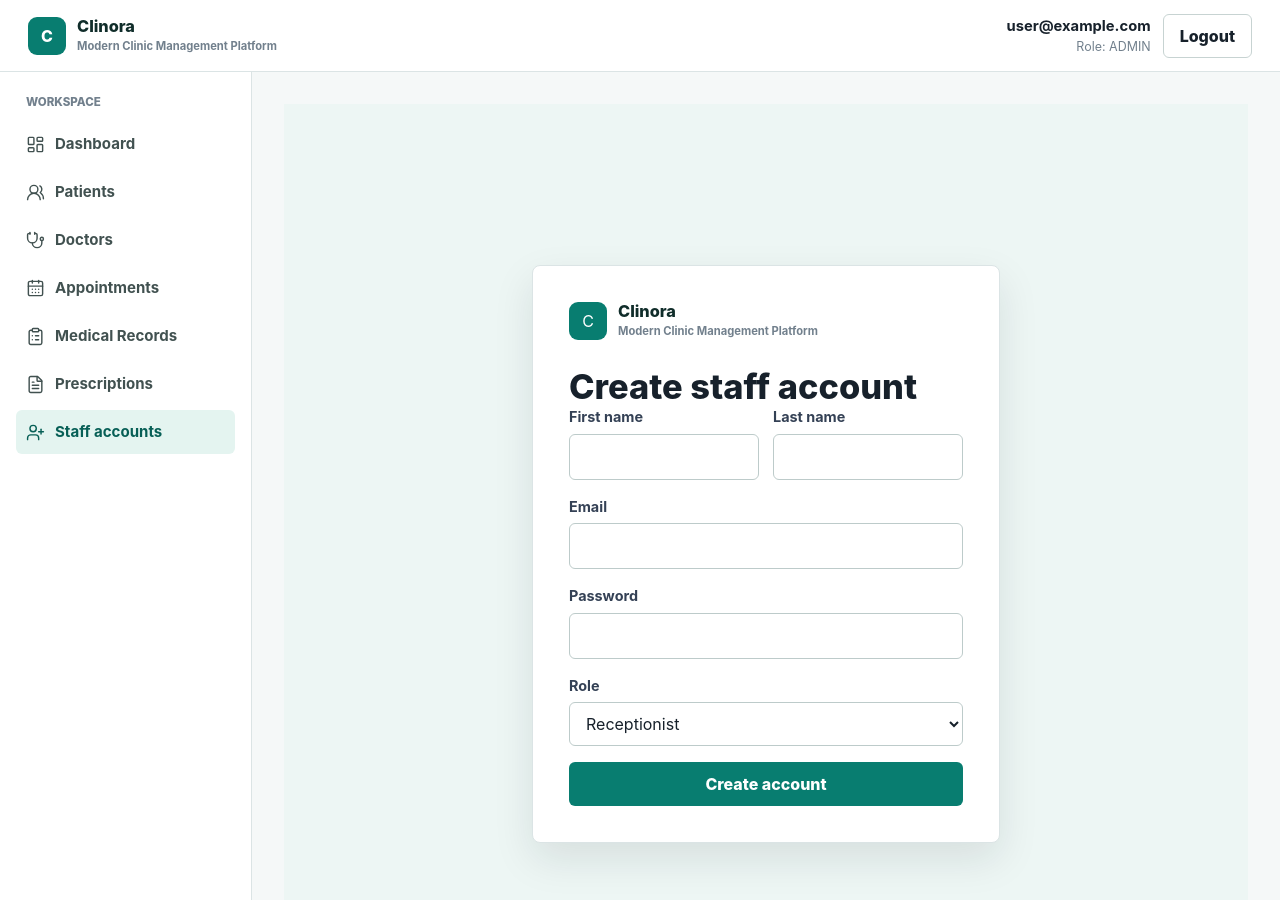
Test case: RegisterPage › submits registration and shows the created role
Type "Front" into the field labelled "First name" at (664,457), box [569,434,759,480]
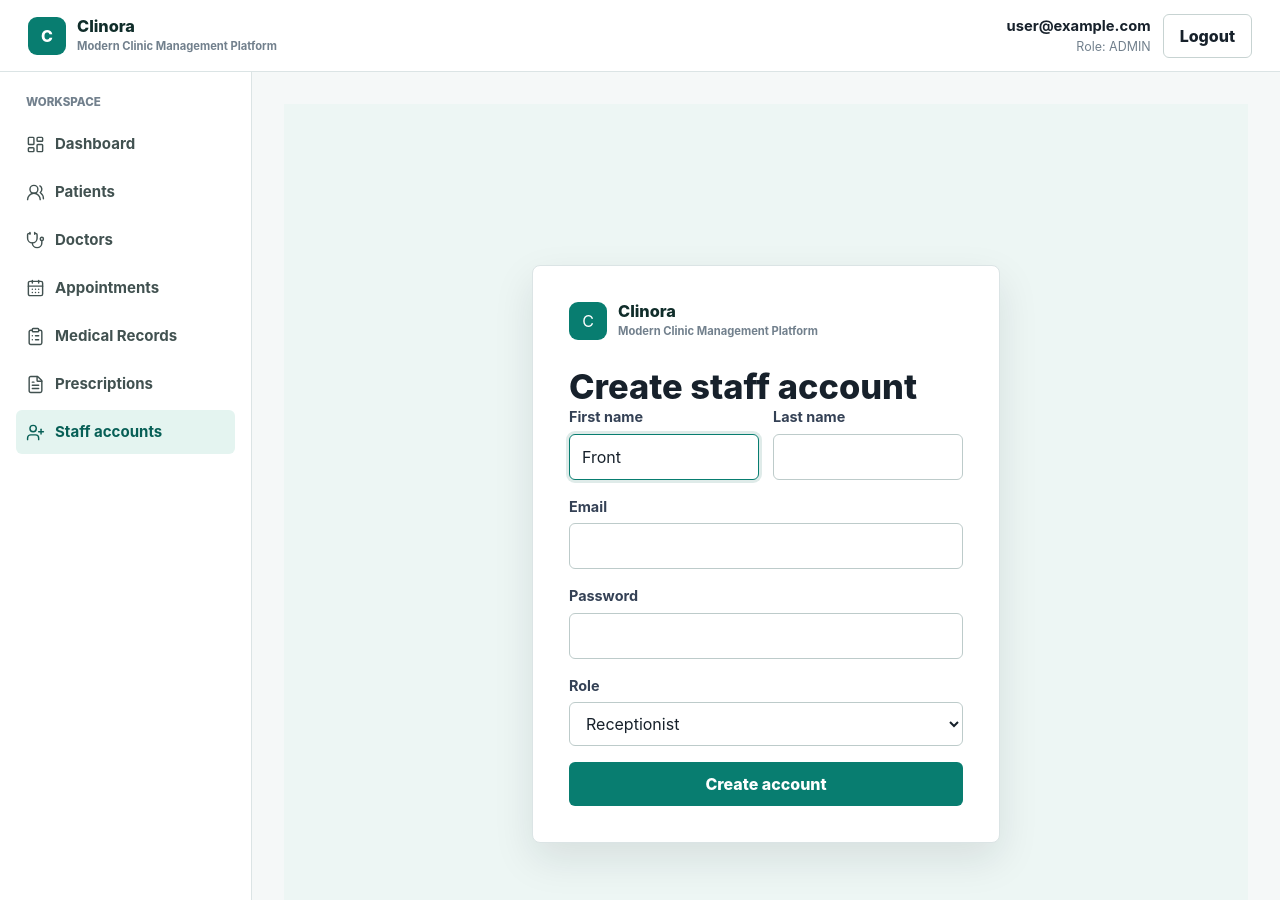
Type "Desk" into the field labelled "Last name" at (868,457), box [773,434,963,480]
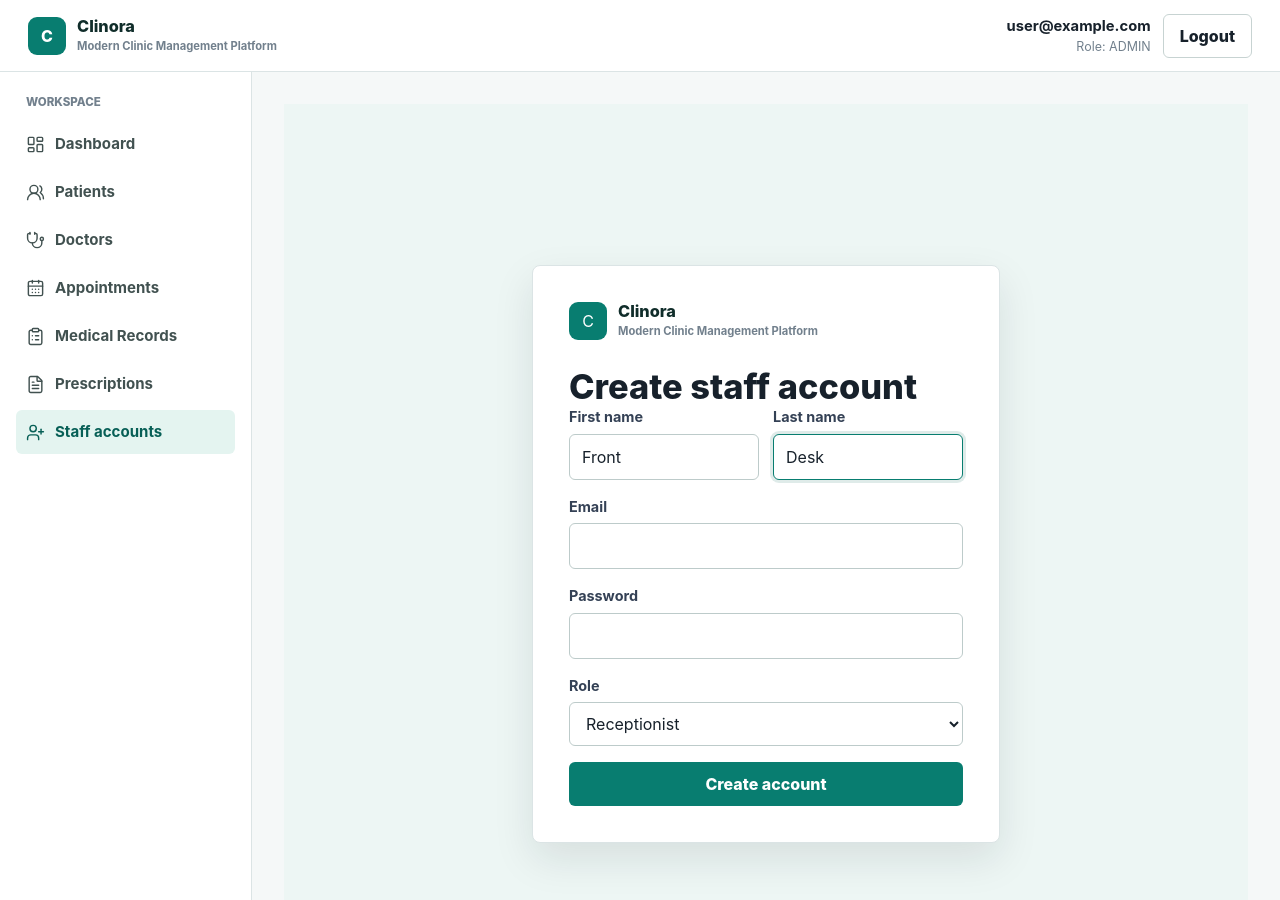
Type "frontdesk@example.com" into the field labelled "Email" at (766,546), box [569,523,963,569]
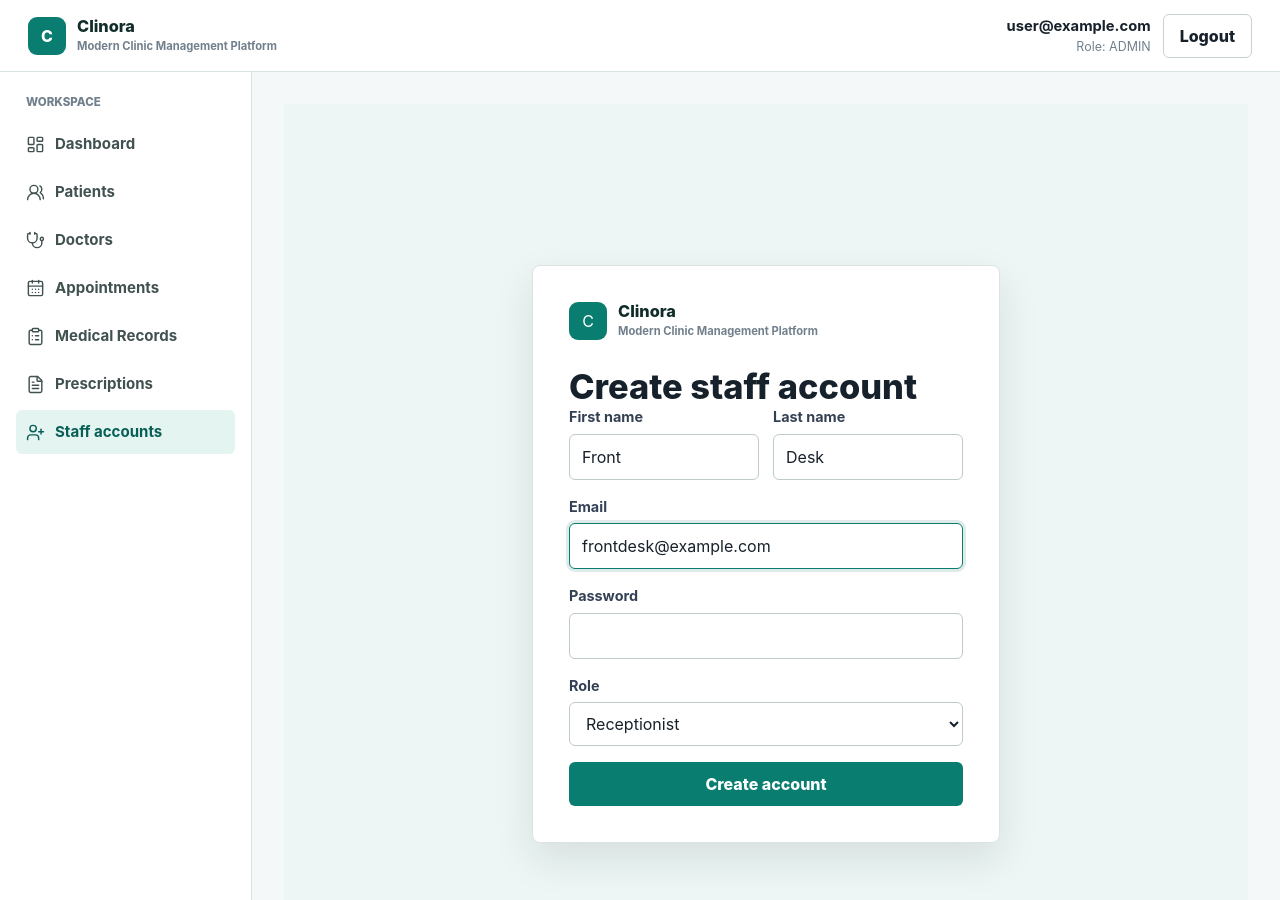
Type "StrongPass123" into the password field labelled "Password" at (766,636), box [569,613,963,659]
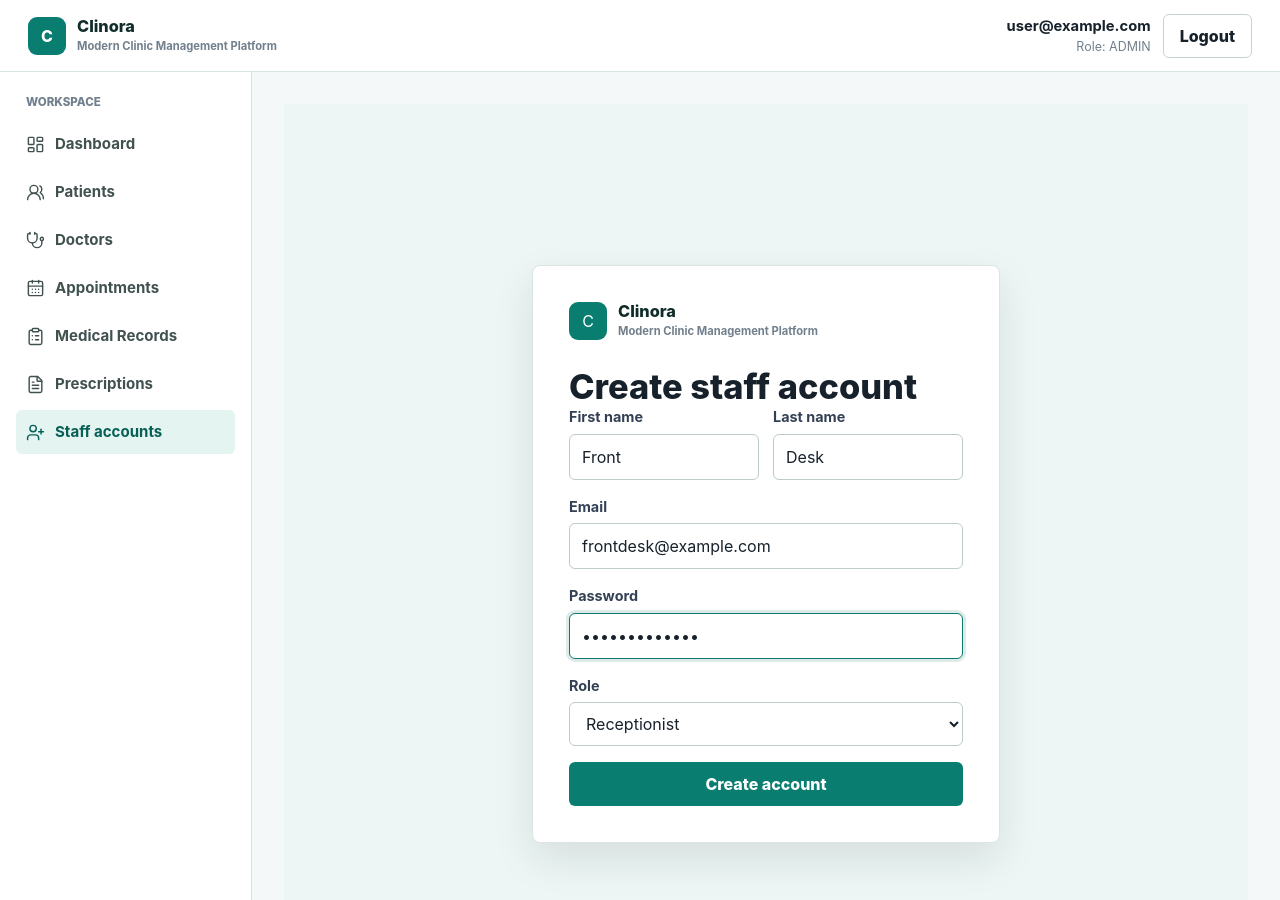
Click the button "Create account" at (766,784), box [569,762,963,806]
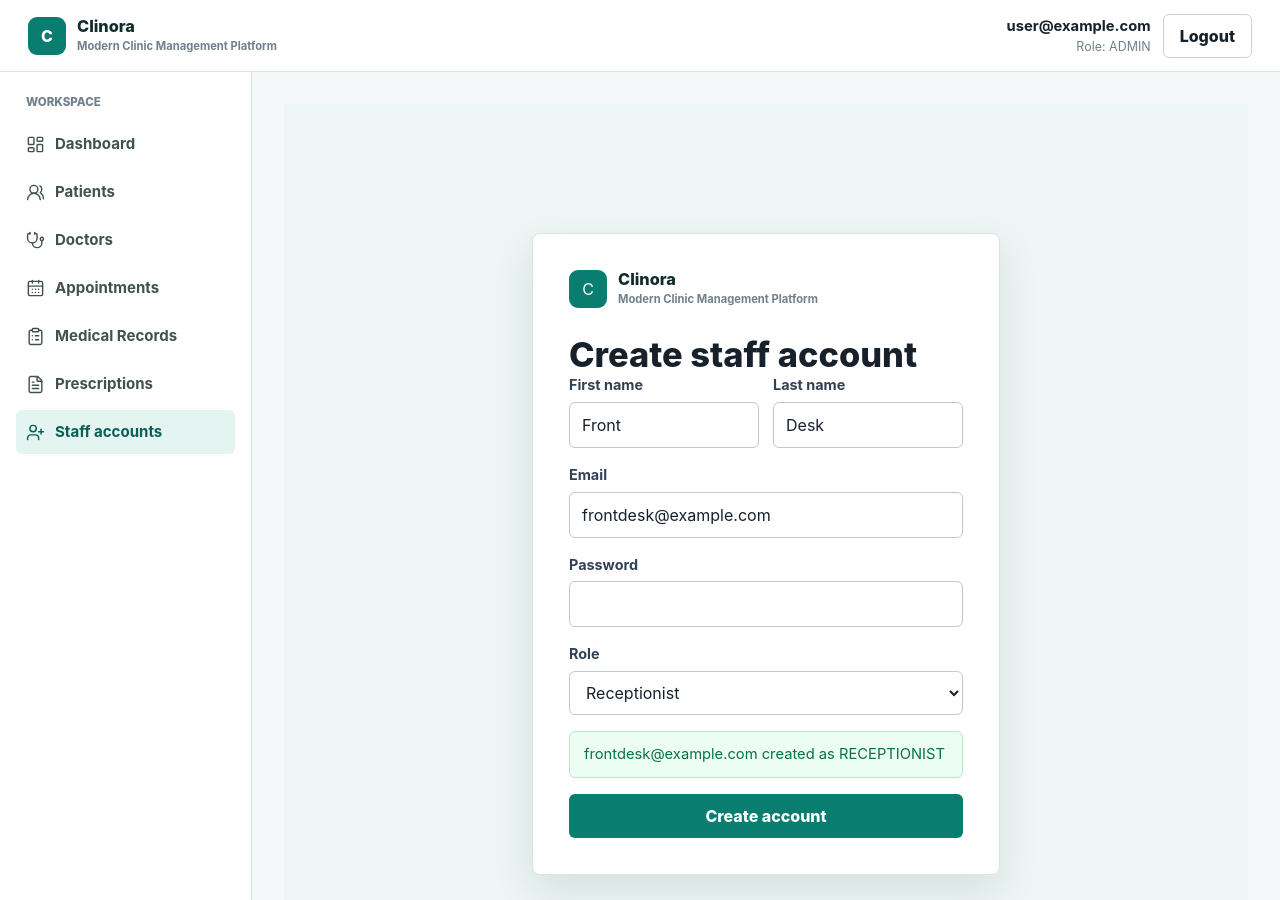
expect the message shows "RECEPTIONIST": met, box [584,745,945,763]
